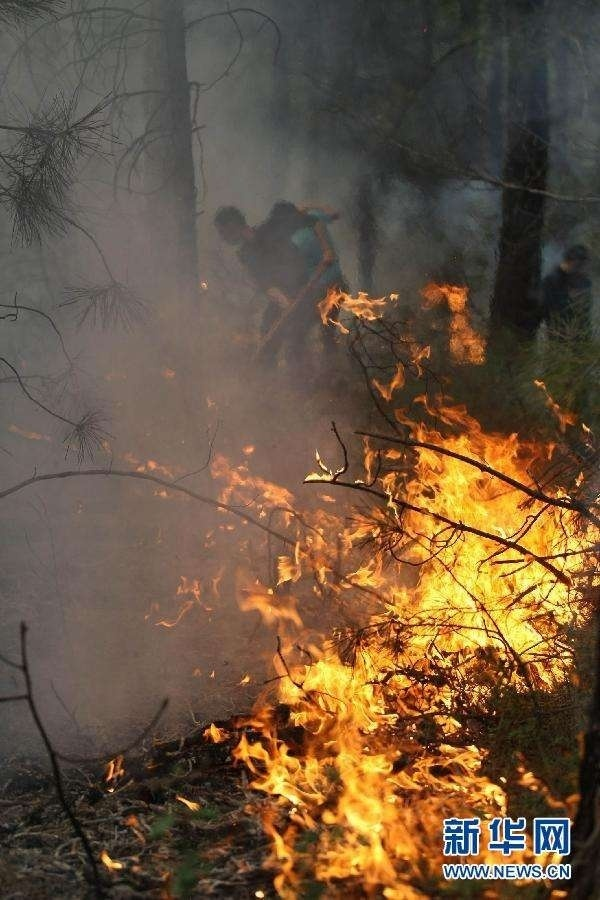fire: (156, 298, 593, 895)
